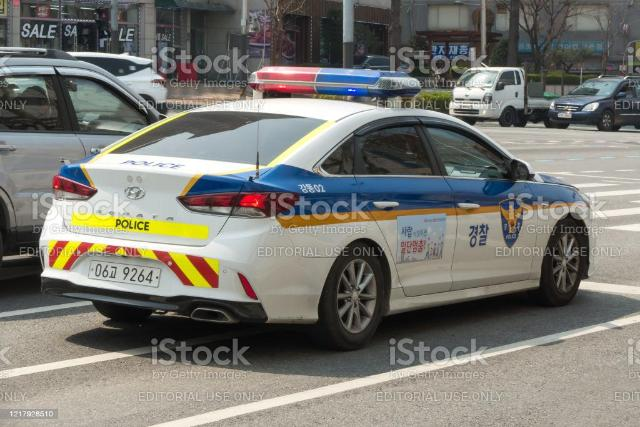police_car: (38, 69, 590, 338)
